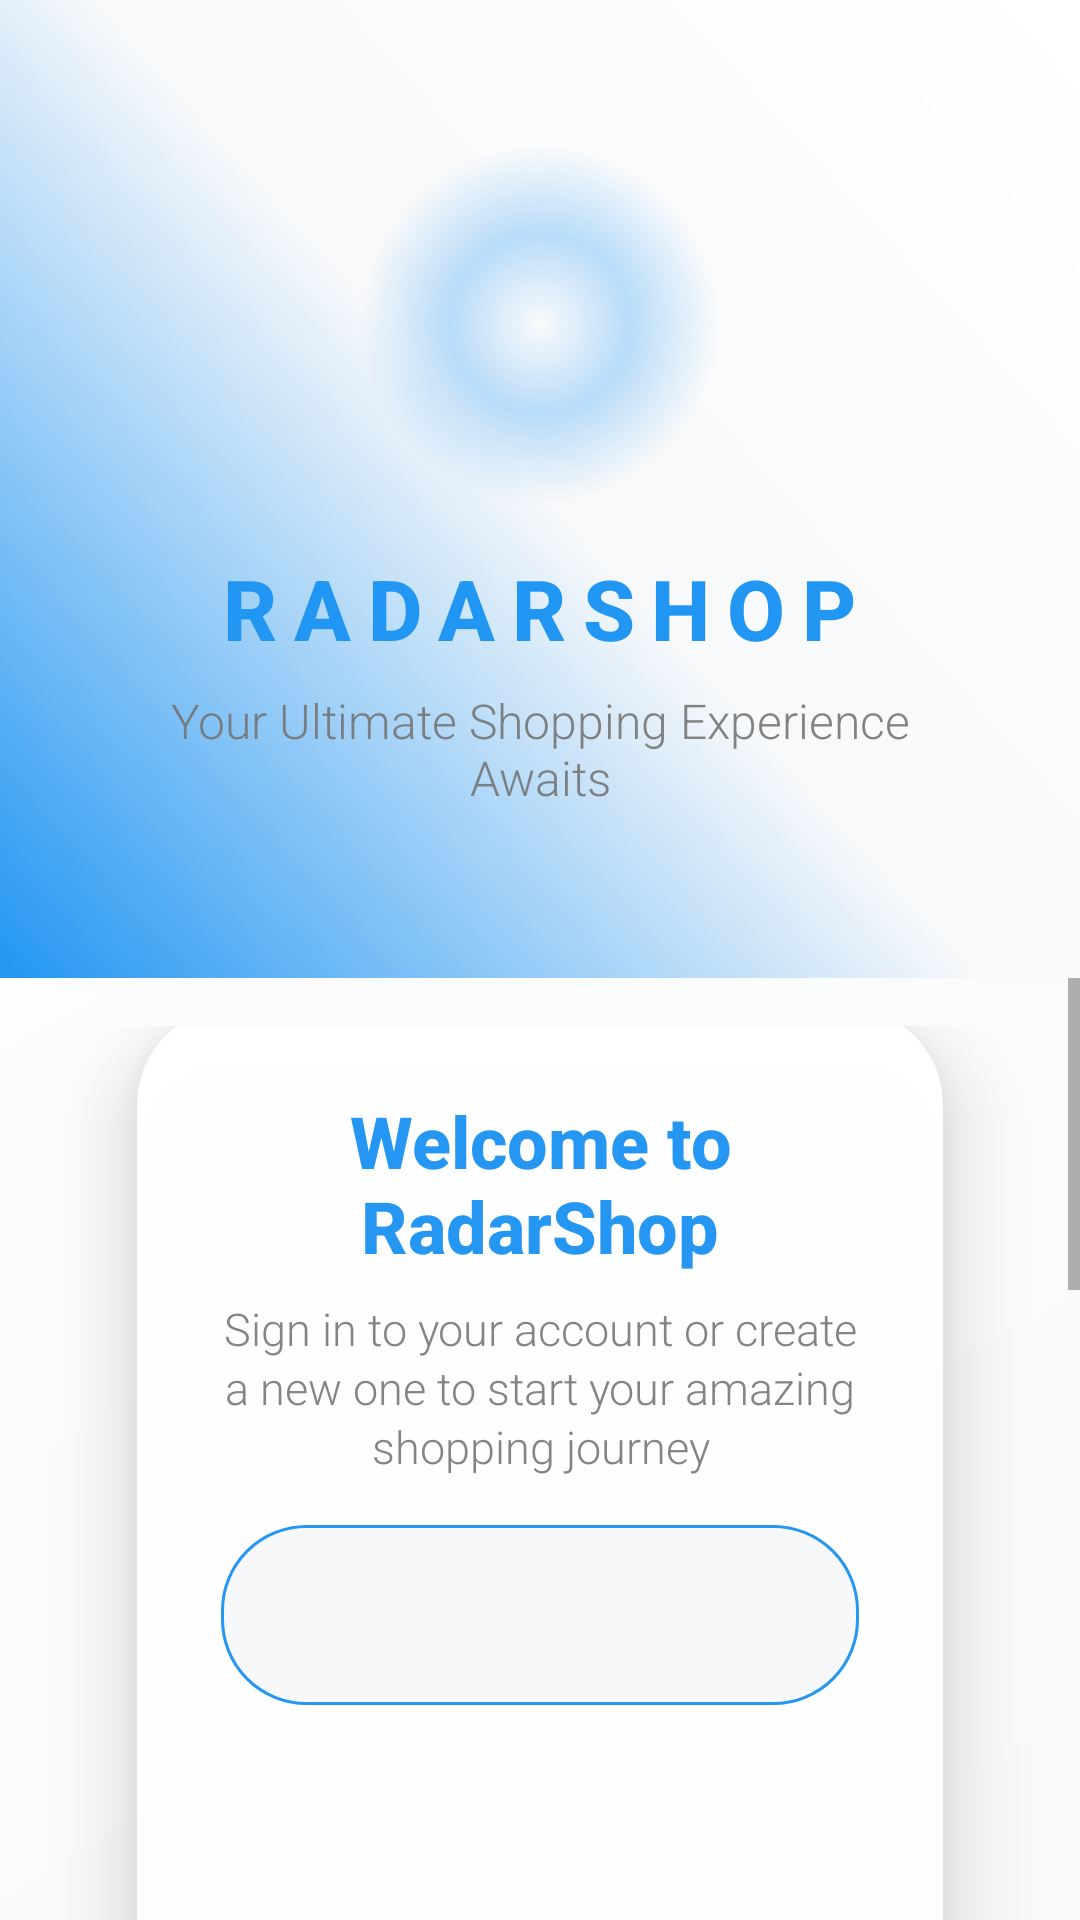

Where to tap for icons on this 1080px x 1920px app screen, as (x=x, y=y):
glow effect: (x=534, y=327)
